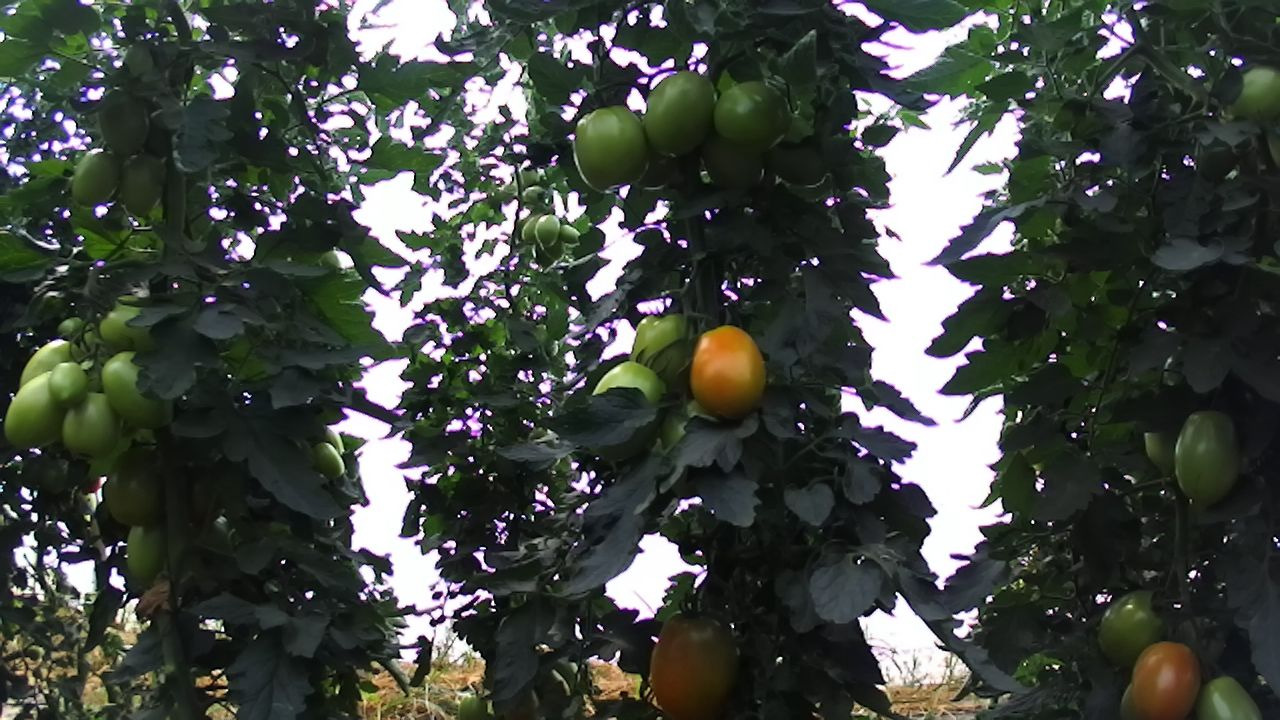tomato: (644, 601, 739, 720), (684, 314, 768, 426), (568, 98, 651, 197), (1167, 405, 1242, 511), (644, 68, 718, 165), (1125, 635, 1208, 720), (711, 76, 798, 156), (1091, 583, 1172, 668), (94, 449, 175, 530), (100, 347, 179, 430), (0, 367, 71, 454), (109, 145, 177, 227), (628, 309, 696, 390), (92, 82, 156, 163), (59, 388, 120, 462), (1187, 672, 1269, 720), (119, 517, 175, 587), (63, 145, 125, 208), (301, 439, 348, 484), (51, 360, 91, 410)
